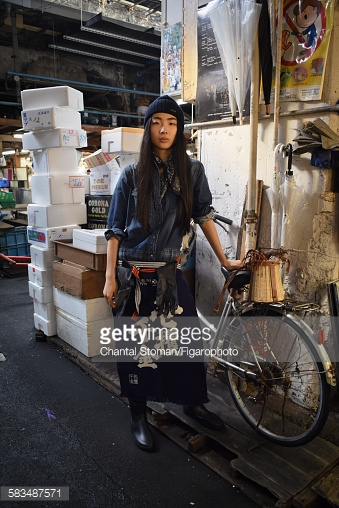em pe: (98, 87, 226, 323)
